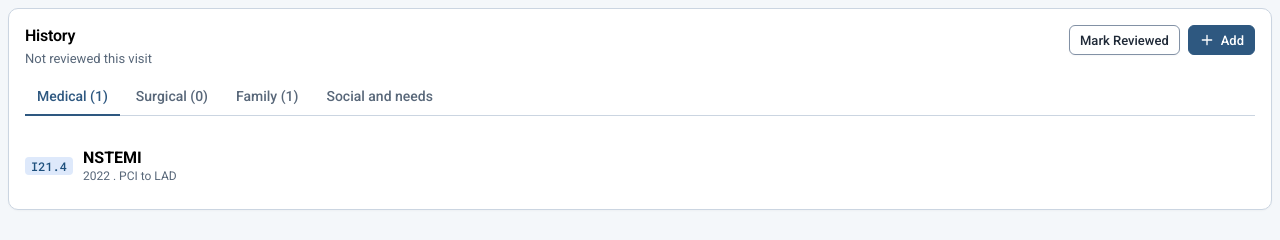
Test: HistoryPanels › switches tabs and links the panel to the selected tab
Check: the panel named "Medical (1)" shows "NSTEMI", box [83,148,142,167]
Click the tab "Surgical (0)" at x=172, y=97, box [124,78,220,116]
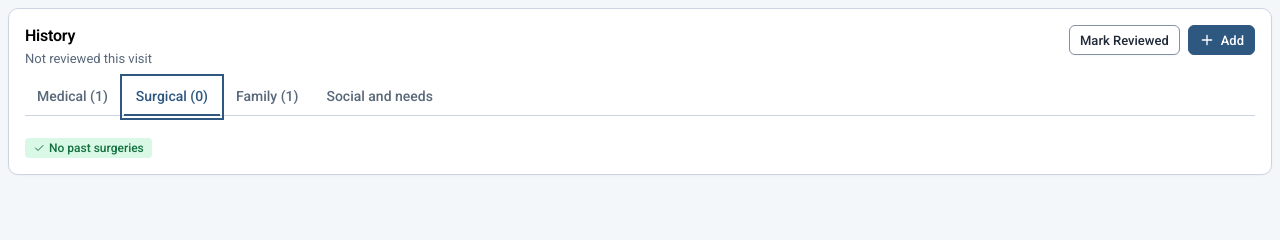
Check: the panel named "Surgical (0)" reads "No past surgeries", box [49,141,144,155]
Press Arrowright
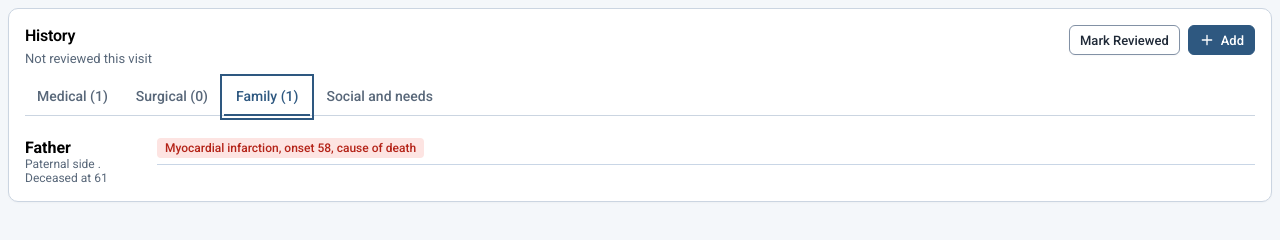
Check: the panel named "Family (1)" shows "Myocardial infarction, onset 58, cause of death", box [165,141,416,155]
Check: the list named "Family history by relative" shows "Paternal side . Deceased at 61", box [25,138,1255,185]
Press Arrowright
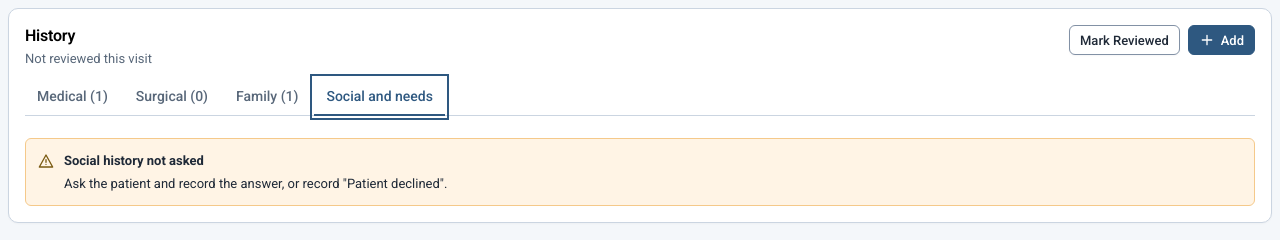
Check: the panel named "Social and needs" shows "Social history not asked", box [64,153,204,168]
